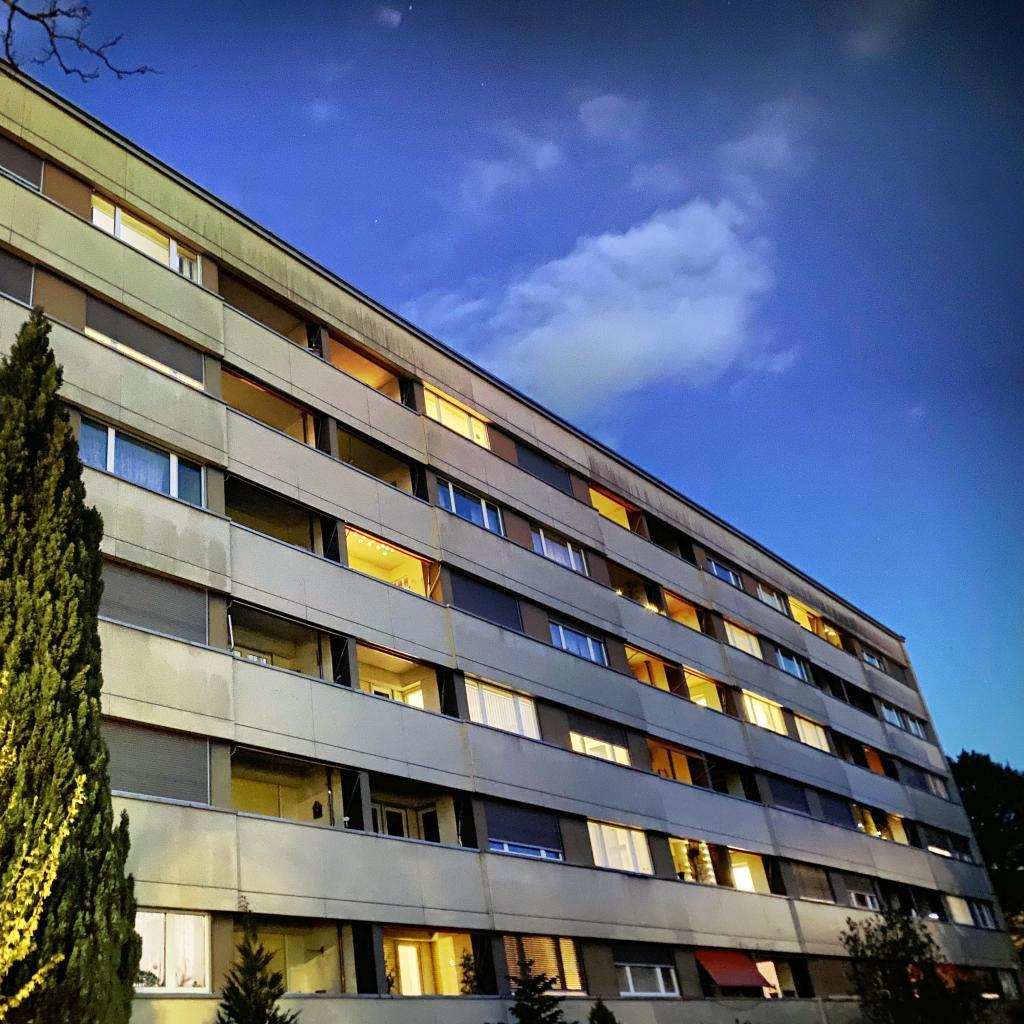facade: (0, 55, 1024, 1024)
vegetation: (0, 303, 161, 1024), (835, 905, 992, 1024), (945, 746, 1024, 966), (0, 0, 167, 85), (214, 895, 305, 1024), (503, 957, 622, 1024), (456, 943, 479, 995), (383, 949, 397, 994)
window: (78, 411, 204, 508), (85, 290, 204, 391), (92, 190, 202, 285), (99, 557, 208, 646), (102, 717, 211, 804), (134, 908, 210, 992), (464, 675, 543, 741), (483, 799, 565, 861), (450, 567, 523, 633), (502, 934, 586, 991), (423, 386, 489, 449), (437, 475, 504, 536), (587, 820, 656, 875), (612, 943, 681, 996), (568, 711, 630, 766), (233, 932, 286, 992), (531, 524, 589, 577), (515, 441, 573, 494), (548, 617, 609, 666), (0, 132, 44, 193), (0, 244, 34, 306), (743, 692, 788, 736), (231, 776, 279, 816), (791, 863, 835, 903), (812, 959, 860, 995), (724, 619, 764, 660), (767, 774, 808, 812), (793, 714, 831, 753), (816, 790, 855, 828), (398, 943, 424, 995), (842, 874, 880, 909), (371, 802, 408, 837), (775, 646, 809, 683), (706, 556, 743, 589), (943, 893, 976, 927), (757, 582, 788, 616), (922, 825, 952, 857), (229, 643, 271, 665), (900, 761, 929, 791), (757, 963, 781, 998), (418, 805, 440, 842), (879, 699, 904, 729), (971, 900, 997, 928), (997, 970, 1020, 1000), (732, 864, 755, 892), (887, 659, 910, 686), (907, 715, 929, 741), (927, 773, 949, 799), (951, 836, 971, 862), (406, 684, 424, 708), (862, 651, 881, 669), (372, 686, 390, 698), (392, 576, 407, 589), (713, 780, 727, 793), (695, 696, 706, 705)
